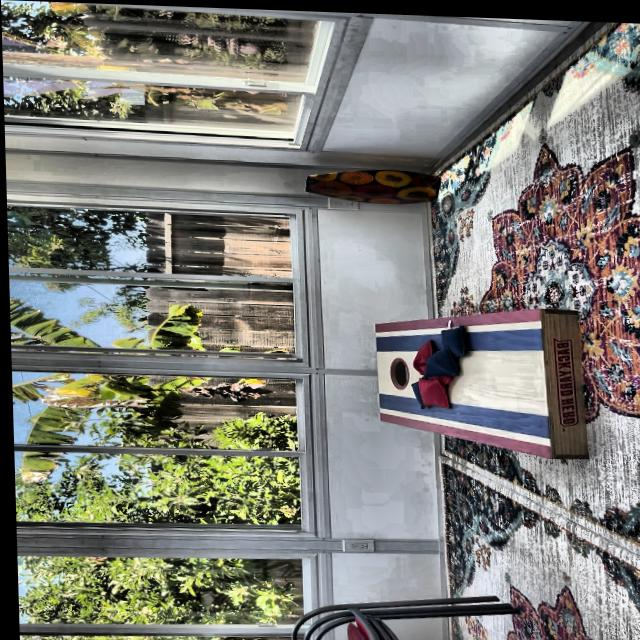blue-bean-bag: (438, 322, 468, 363), (424, 342, 455, 376), (412, 375, 433, 406)
board: (374, 314, 538, 432)
hole: (386, 354, 407, 387)
red-bean-bag: (420, 356, 453, 391), (414, 377, 448, 406), (412, 339, 437, 375)
